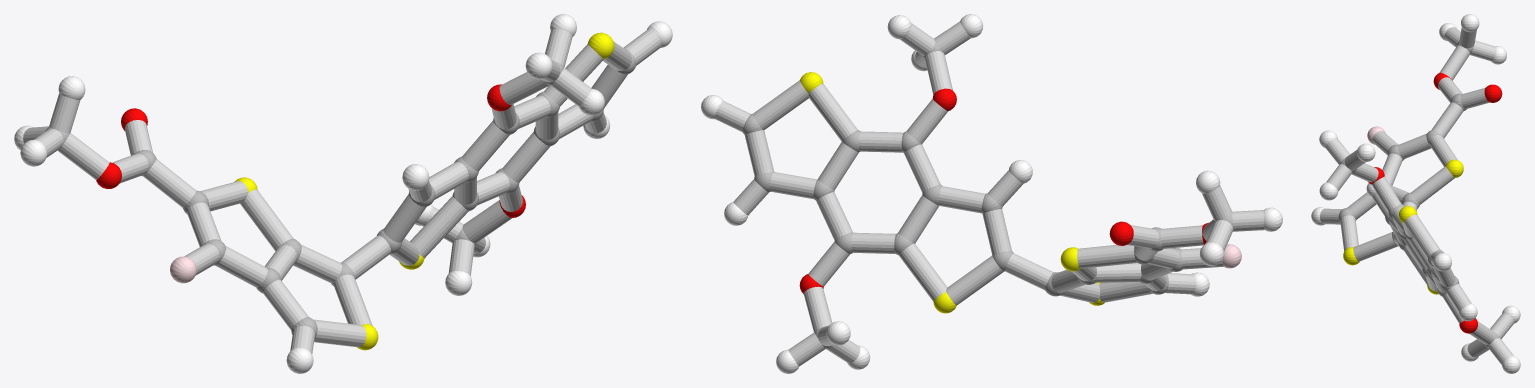
File: Dimethoxy_Benzodithiophene_Phi_30_Theta_260_Methylcarbonyl_3_Fluoro_Thienothiophene.glb
3 renders of one model, left to right at view 1: azimuth 30°, elevation 25°; view 2: azimuth 150°, elevation 25°; view 3: azimuth 270°, elevation 25°, orthographic. The views are drawn at different scales.
Parts seen in each view (by area): view 1: grp15205, grp8689, grp1, grp13395, grp7241, grp14843; view 2: grp15205, grp8689, grp1, grp13395, grp7241; view 3: grp15205, grp8689, grp1, grp13395, grp7241.
Part boxes in pixels (x1,y1,x2,y2): grp15205: [23, 29, 661, 354]; grp8689: [14, 14, 672, 373]; grp1: [45, 48, 636, 337]; grp13395: [96, 84, 525, 217]; grp7241: [234, 32, 614, 350]; grp14843: [170, 256, 196, 283]; grp15205: [714, 21, 1264, 366]; grp8689: [701, 14, 1282, 373]; grp1: [742, 42, 1232, 348]; grp13395: [799, 88, 1208, 293]; grp7241: [800, 72, 1104, 313]; grp15205: [1320, 27, 1514, 364]; grp8689: [1311, 14, 1520, 373]; grp1: [1338, 40, 1499, 347]; grp13395: [1368, 72, 1502, 333]; grp7241: [1343, 159, 1463, 294].
Bounding box in the file's own units: 16.55 × 8.04 × 6.74.
